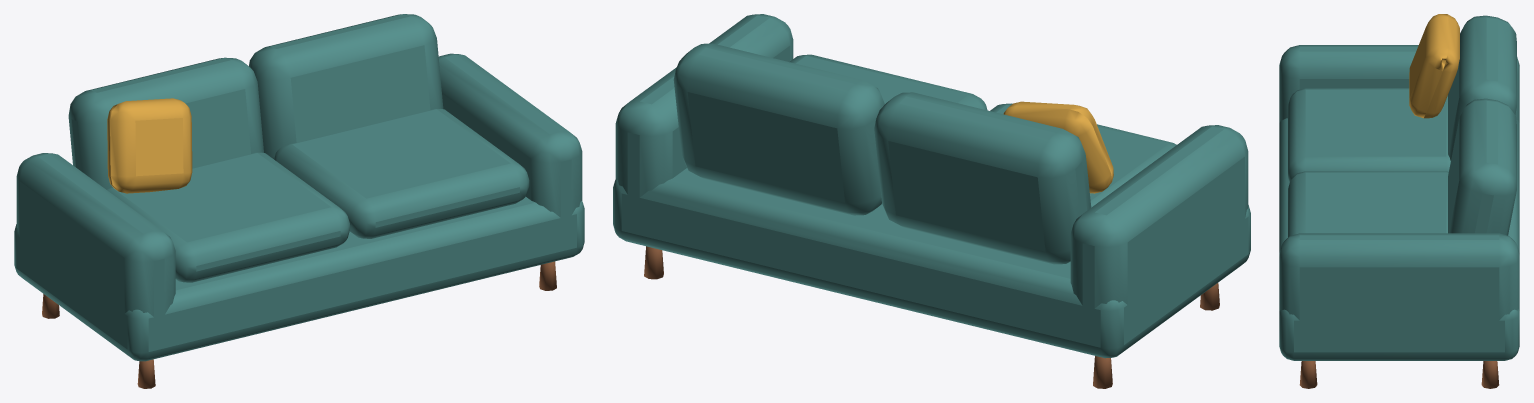
File: couch.glb
3 views of the same model, side by side, from view 1: azimuth 30°, elevation 25°; view 2: azimuth 150°, elevation 25°; view 3: azimuth 270°, elevation 25° (orthographic). The views are drawn at different scales.
Parts seen in each view (by area): view 1: couch; view 2: couch; view 3: couch.
Part boxes in pixels (x1=…): couch: x1=14, y1=14, x2=584, y2=388; couch: x1=613, y1=14, x2=1250, y2=388; couch: x1=1279, y1=14, x2=1519, y2=388.
Size of the model in its own units: 1.7 by 0.7777 by 0.82.
